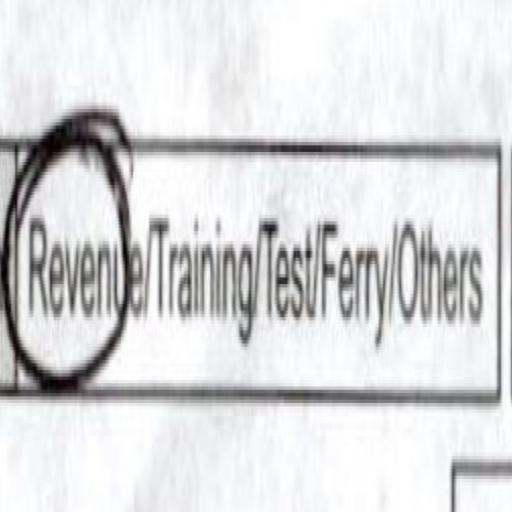check: (21, 89, 145, 438)
